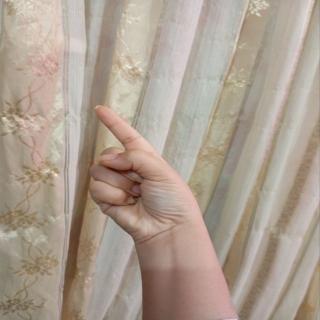BAA: (73, 100, 209, 250)
